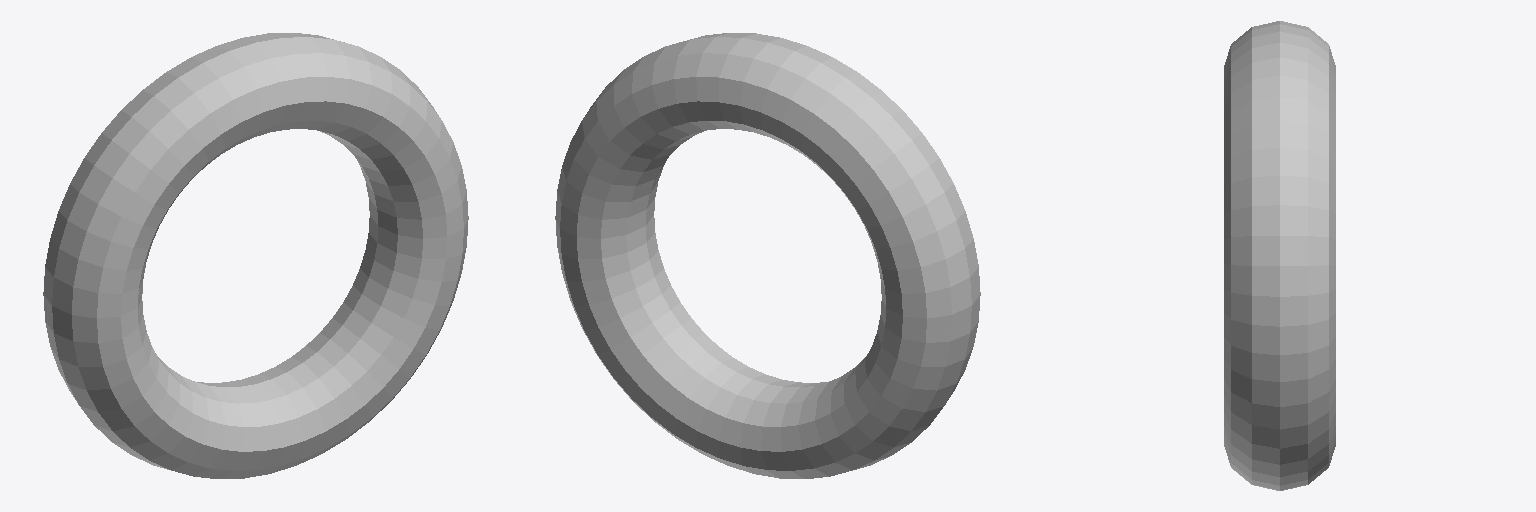
The model's file is toy_plane_left_back_wheel.obj.
3 views of the same model, side by side, from view 1: azimuth 30°, elevation 25°; view 2: azimuth 150°, elevation 25°; view 3: azimuth 270°, elevation 25° (orthographic).
Visible parts, largest first — view 1: back_wheel_left_Torus.003; view 2: back_wheel_left_Torus.003; view 3: back_wheel_left_Torus.003.
Part boxes in pixels (x1,y1,x2,y2): back_wheel_left_Torus.003: (43,33,468,478); back_wheel_left_Torus.003: (555,33,980,478); back_wheel_left_Torus.003: (1224,21,1335,490).
Size of the model in its own units: 0.375 by 0.375 by 0.0898.